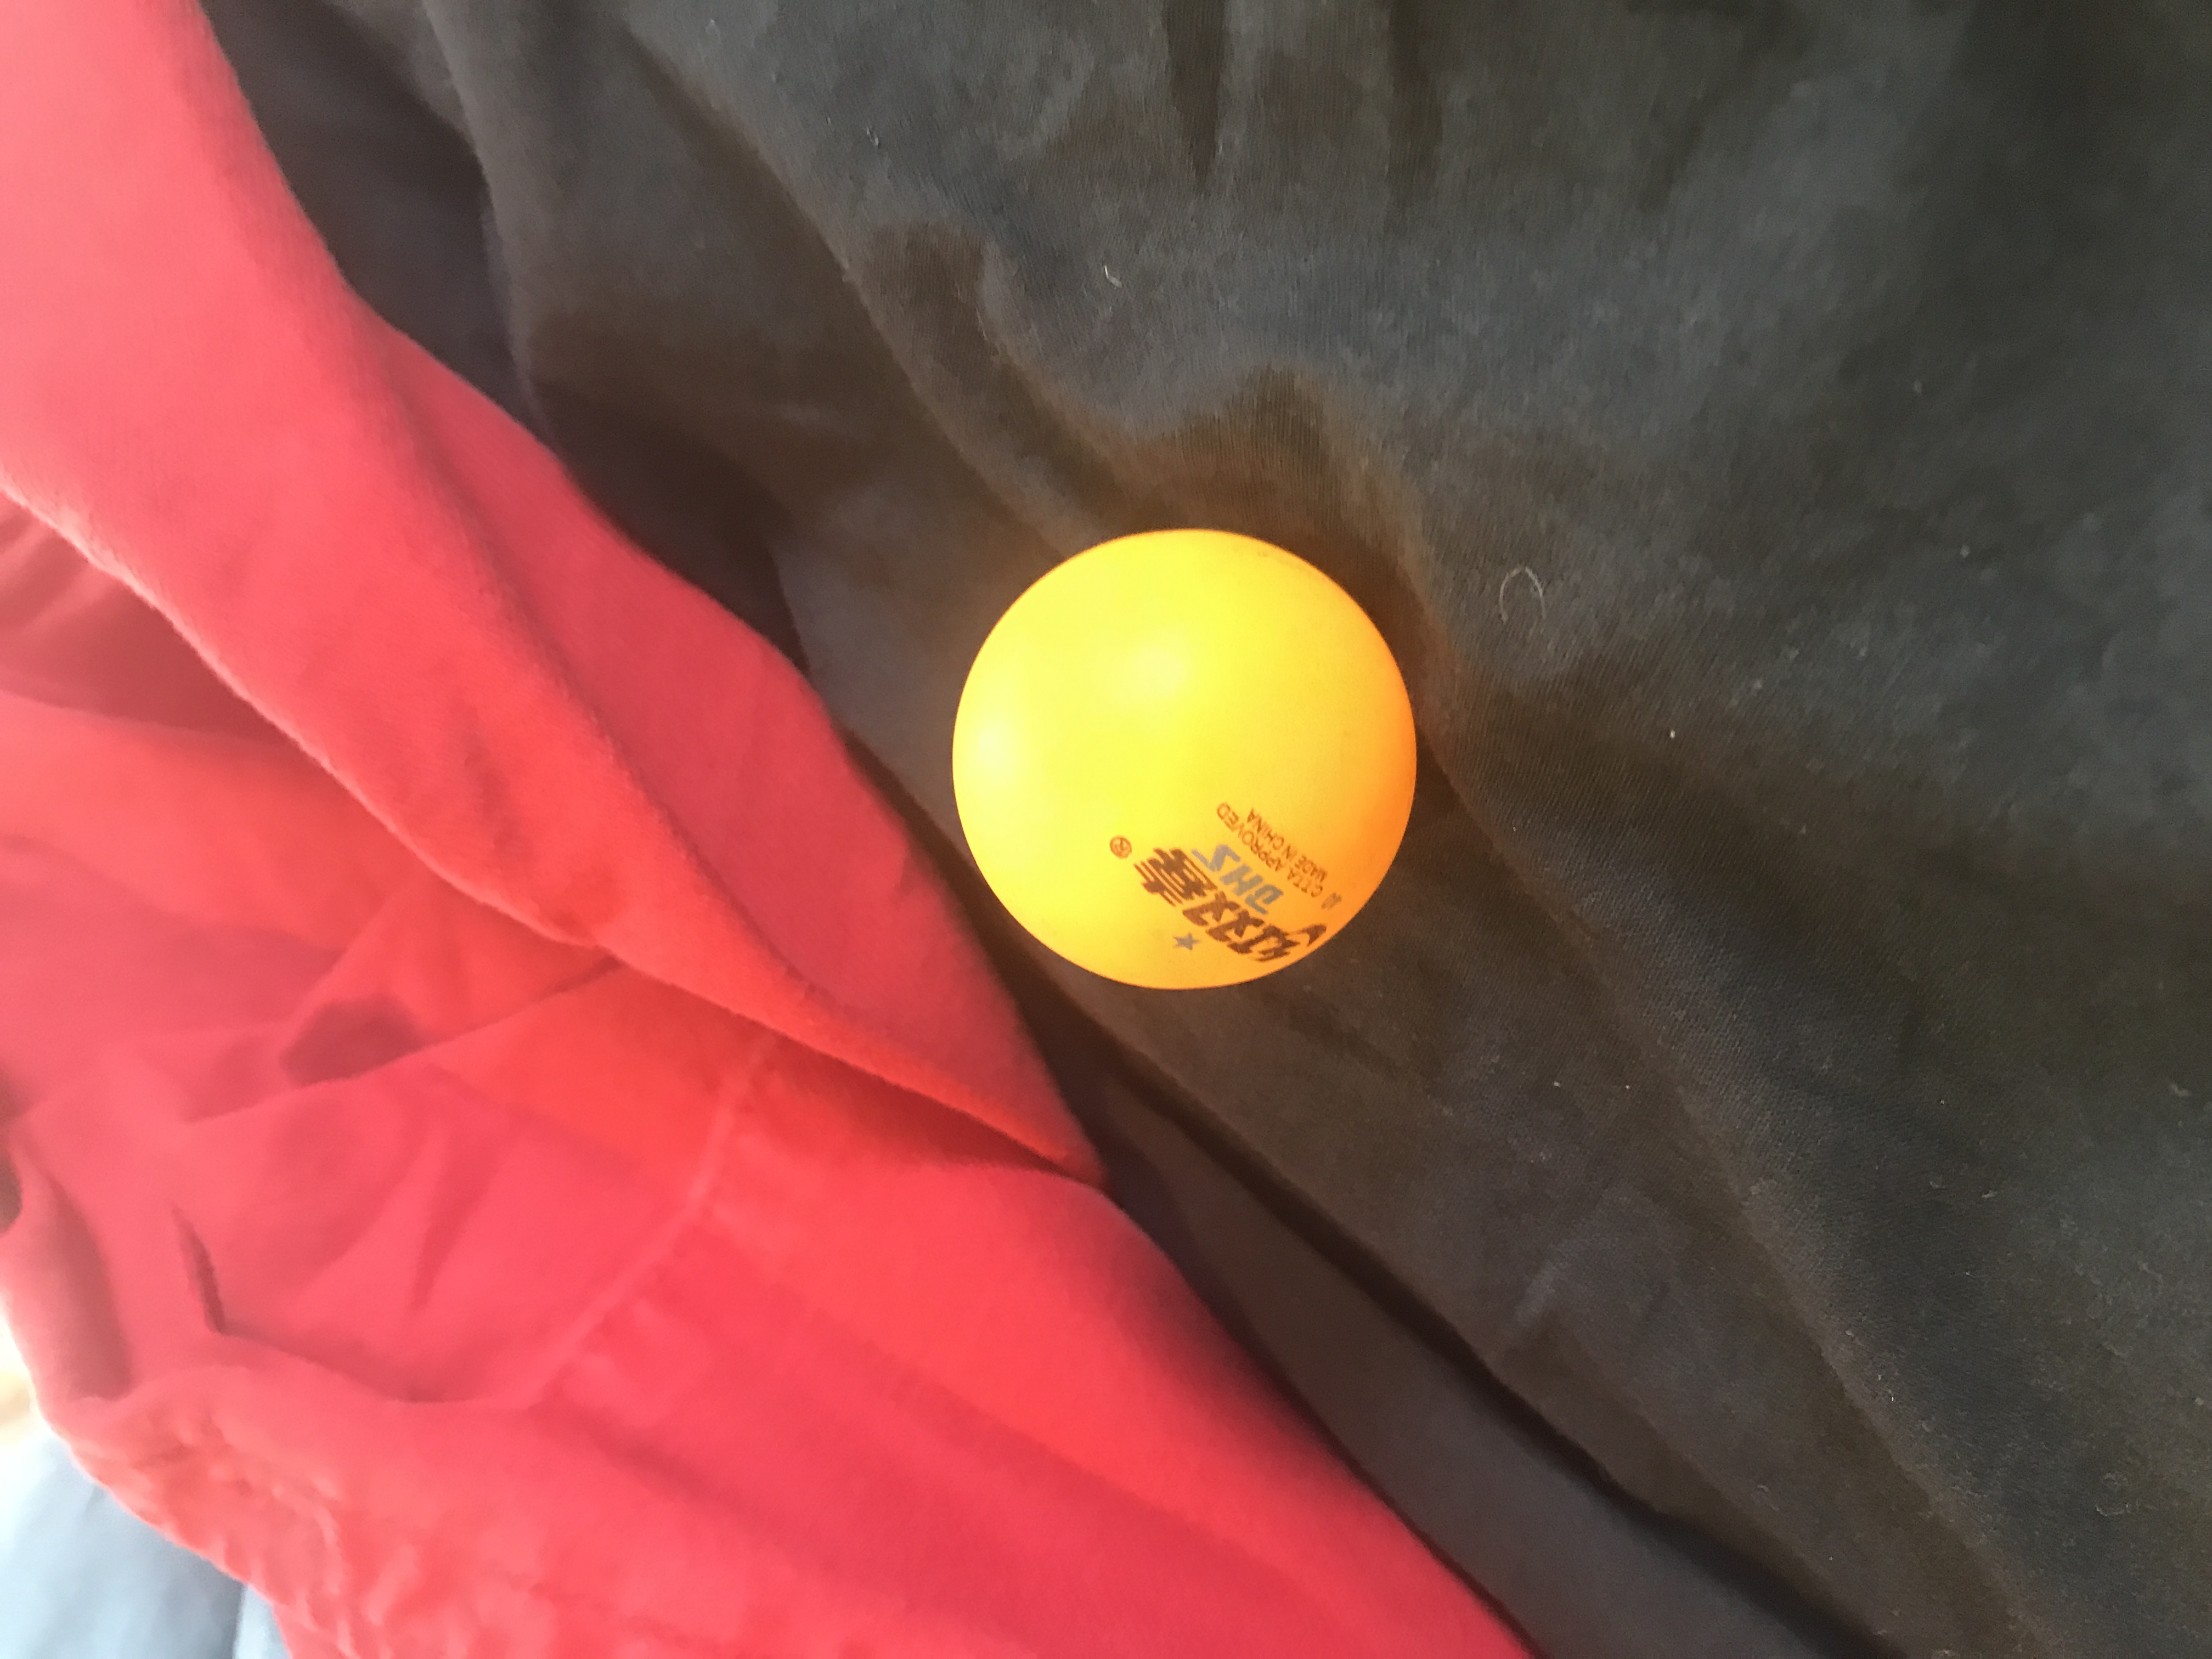pp: (951, 525, 1426, 995)
